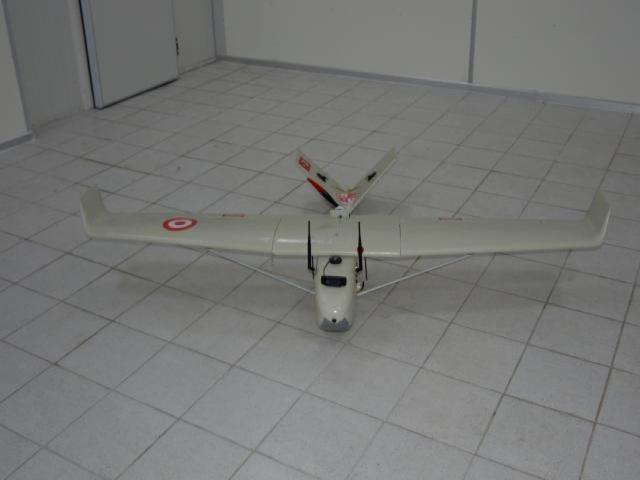iha: (72, 158, 617, 314)
